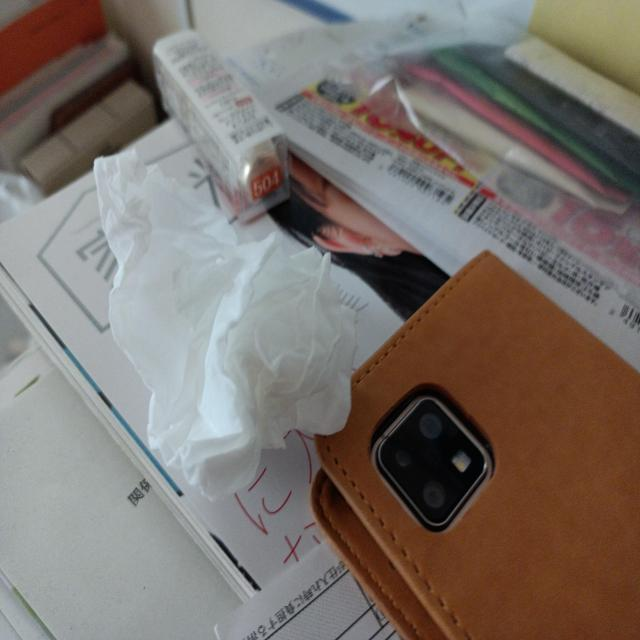Paper: (101, 149, 366, 504)
